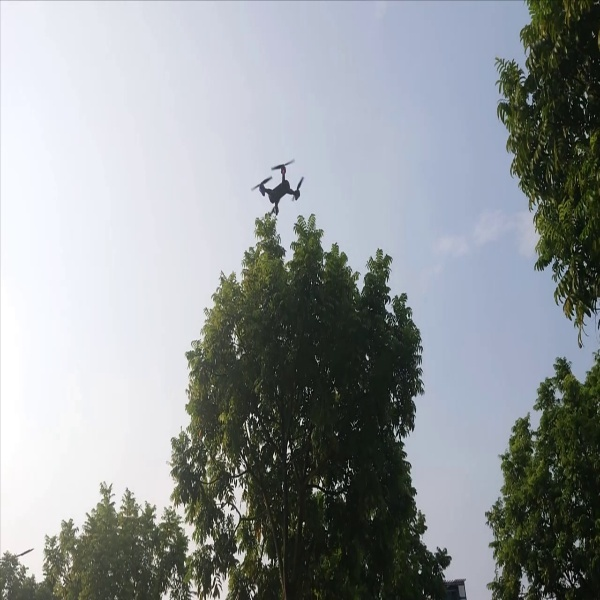drone: (251, 159, 307, 217)
